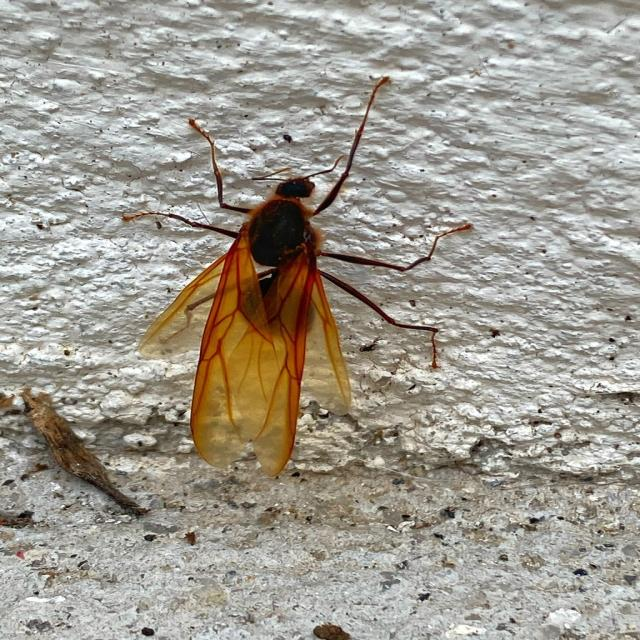Alive-Male-Alate: (120, 75, 472, 478)
